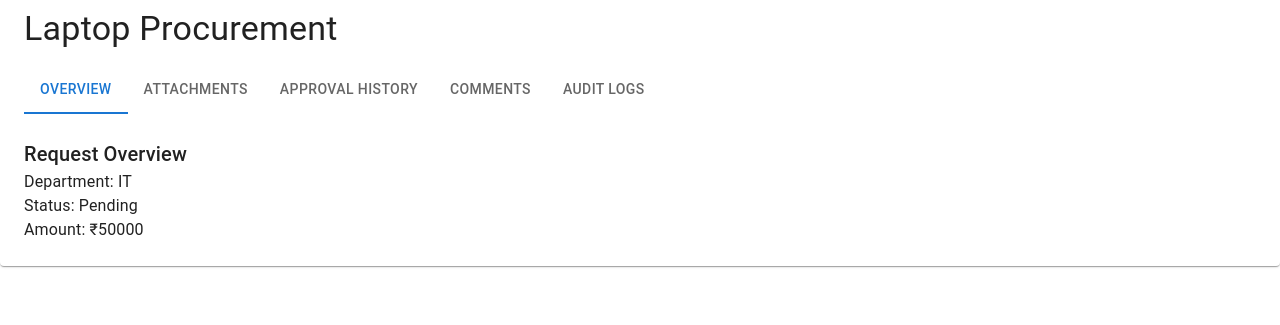
ProcurementDetailsPage › opens approval history tab
Click the tab "Approval History".
click(349, 90)  # box [264, 66, 434, 114]
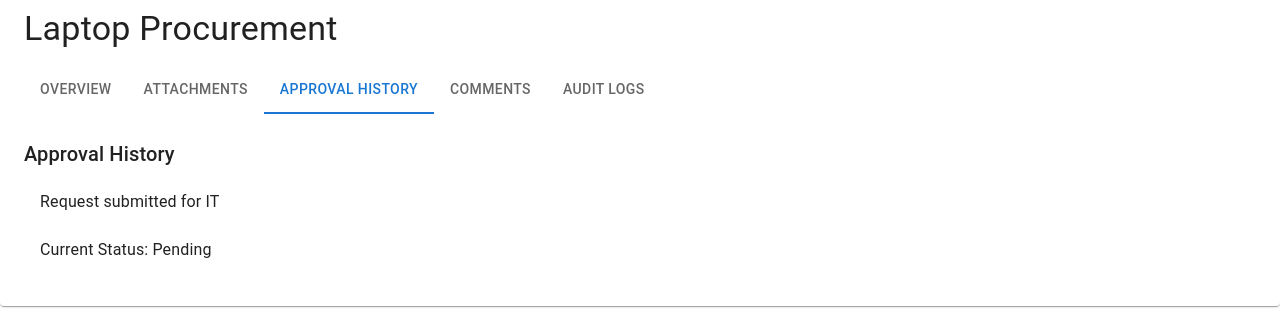
Check: the text "Current Status: Pending" is shown, box [40, 240, 212, 259]
